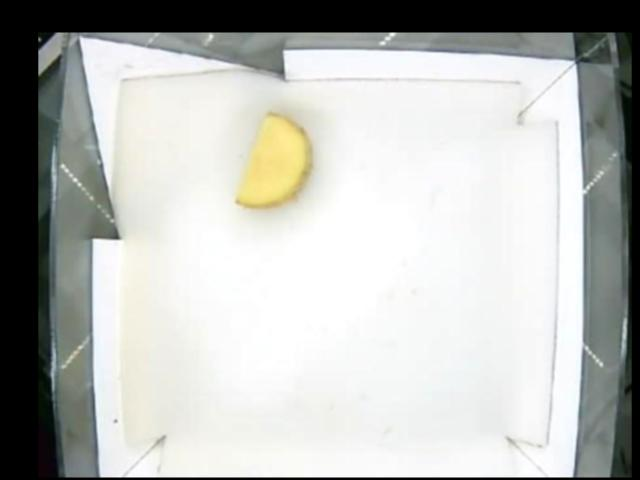Potato: (235, 112, 309, 208)
